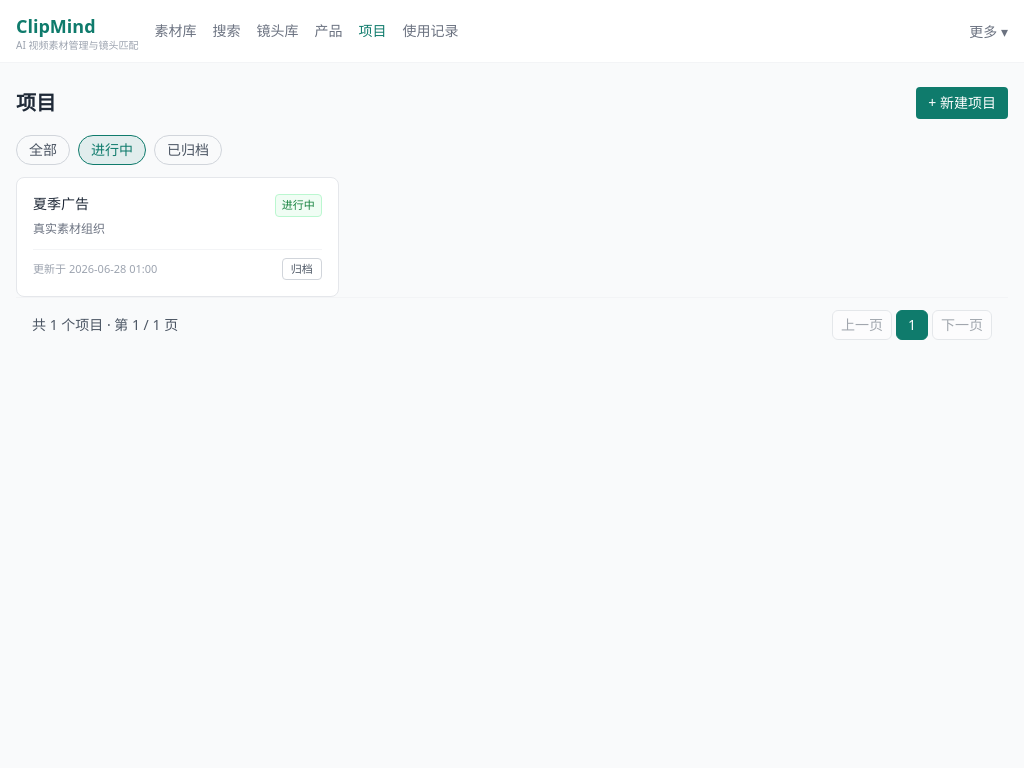
Test: ProjectsView › 空名称时创建按钮禁用
Click the button with test id "toggle-create-project": (962, 103) x1=916 y1=87 x2=1008 y2=119
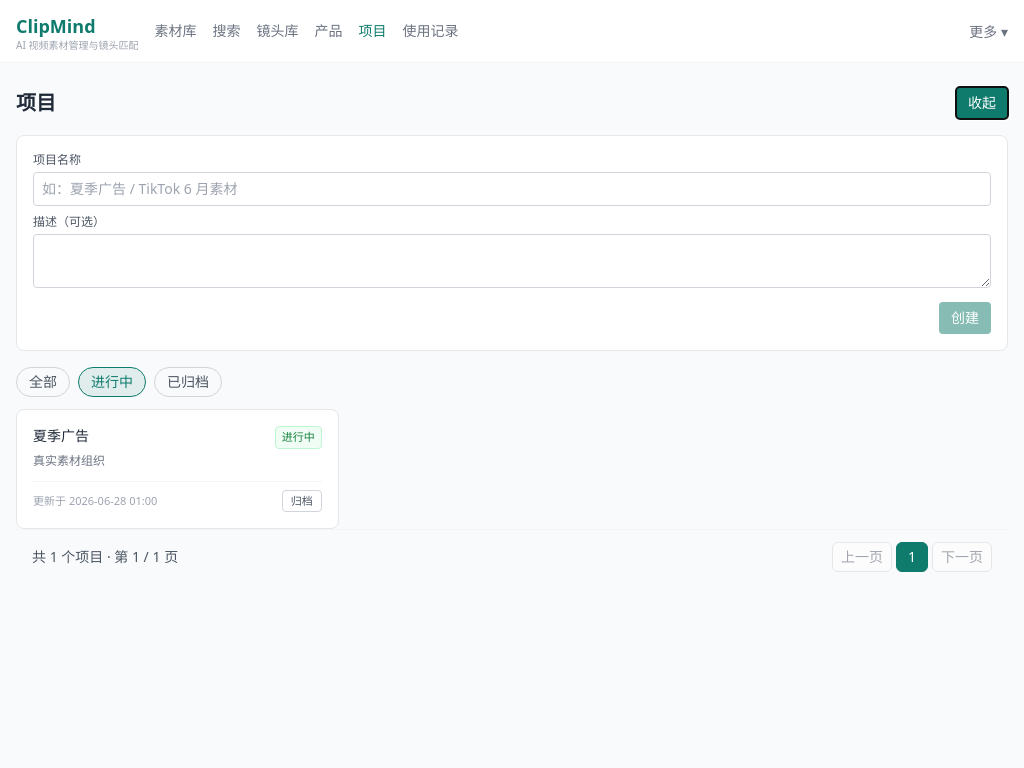
Expected: the button with test id "submit-create-project" is disabled, x1=939 y1=302 x2=991 y2=334
